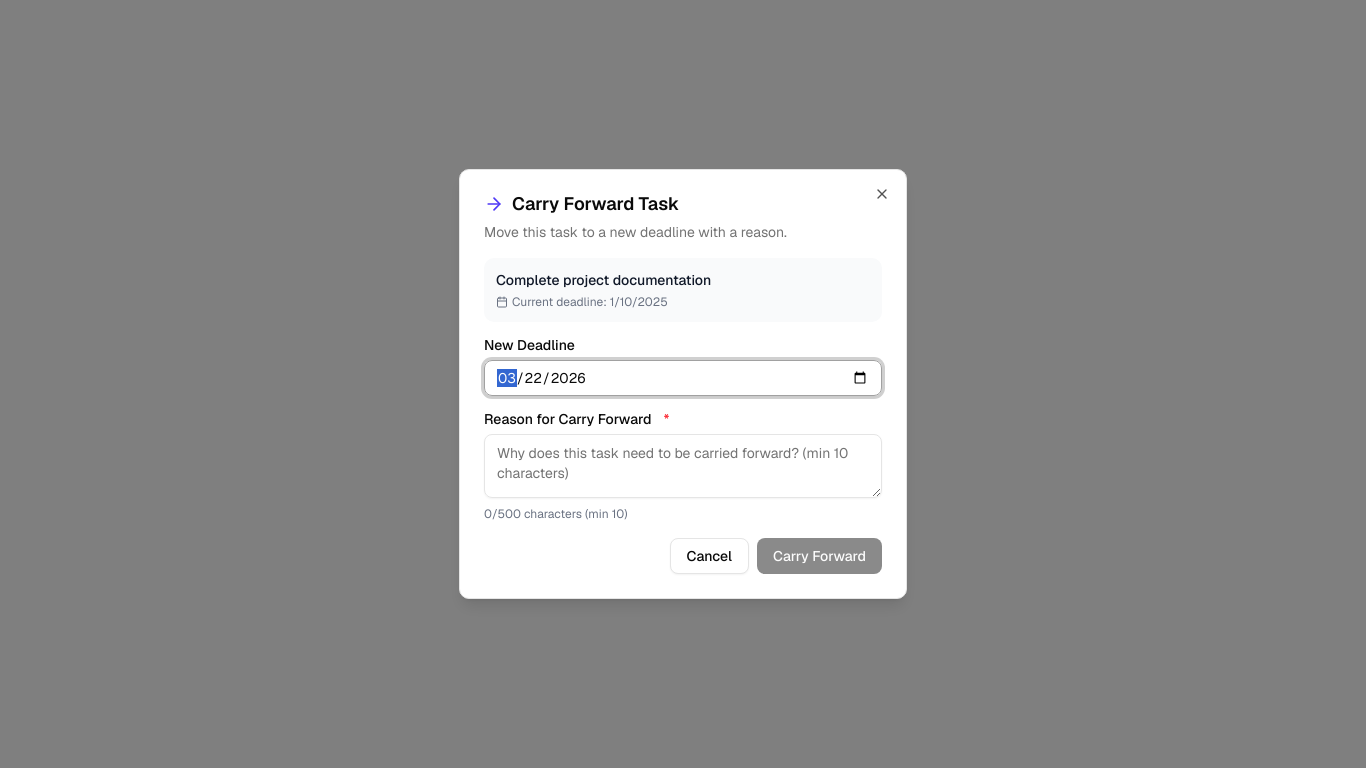
it: CarryForwardModal › enables submit button when reason is long enough
This screenshot has width=1366, height=768.
In the text box with placeholder "Why does this task": (683, 466) [484,434,882,498], type "This is a valid reason for carry forward"
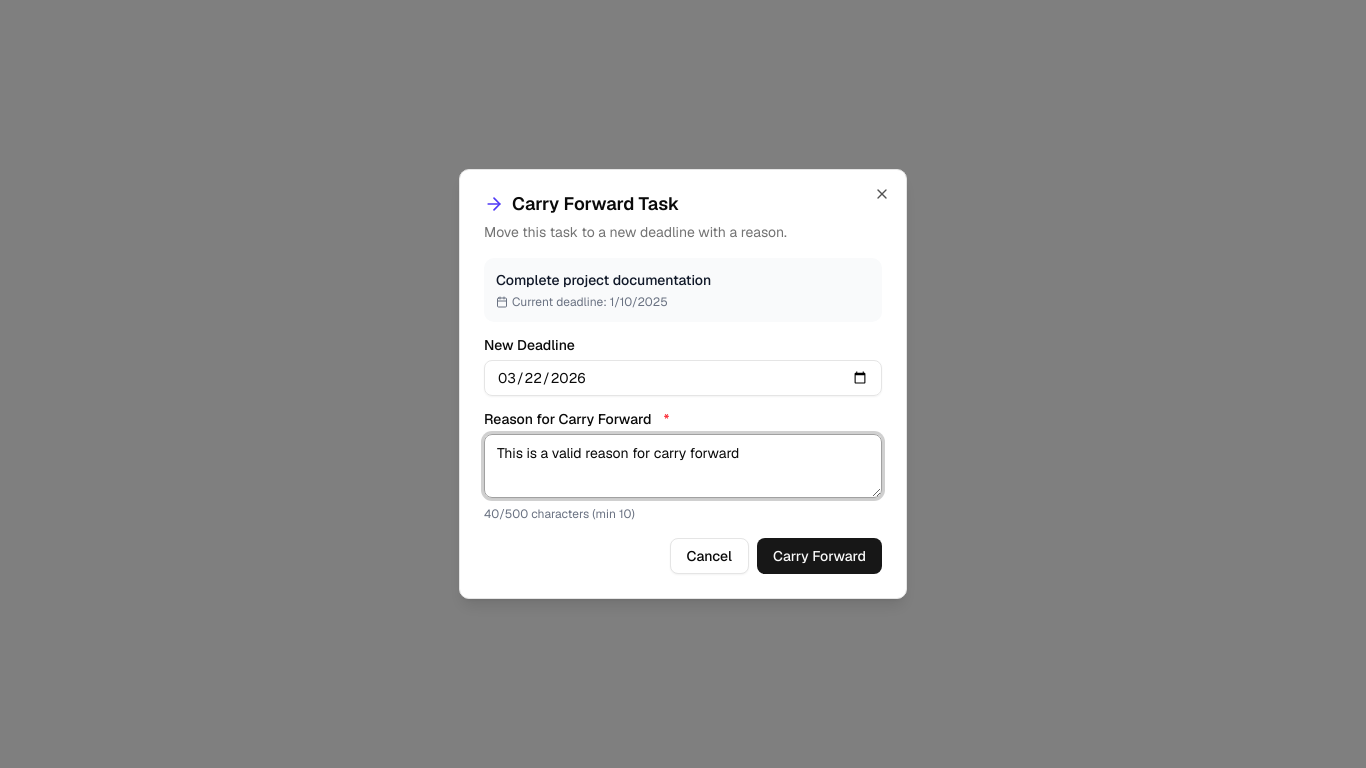
Check: the button "Carry Forward" is enabled, box [757,538,882,574]
